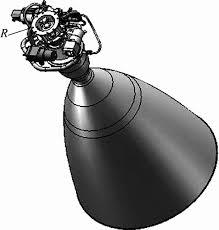thruster: (63, 64, 219, 230)
